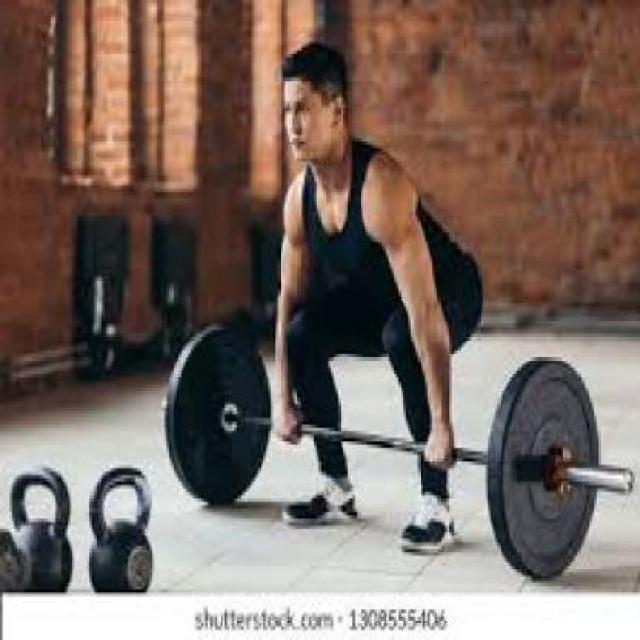barbell: (497, 361, 639, 587)
